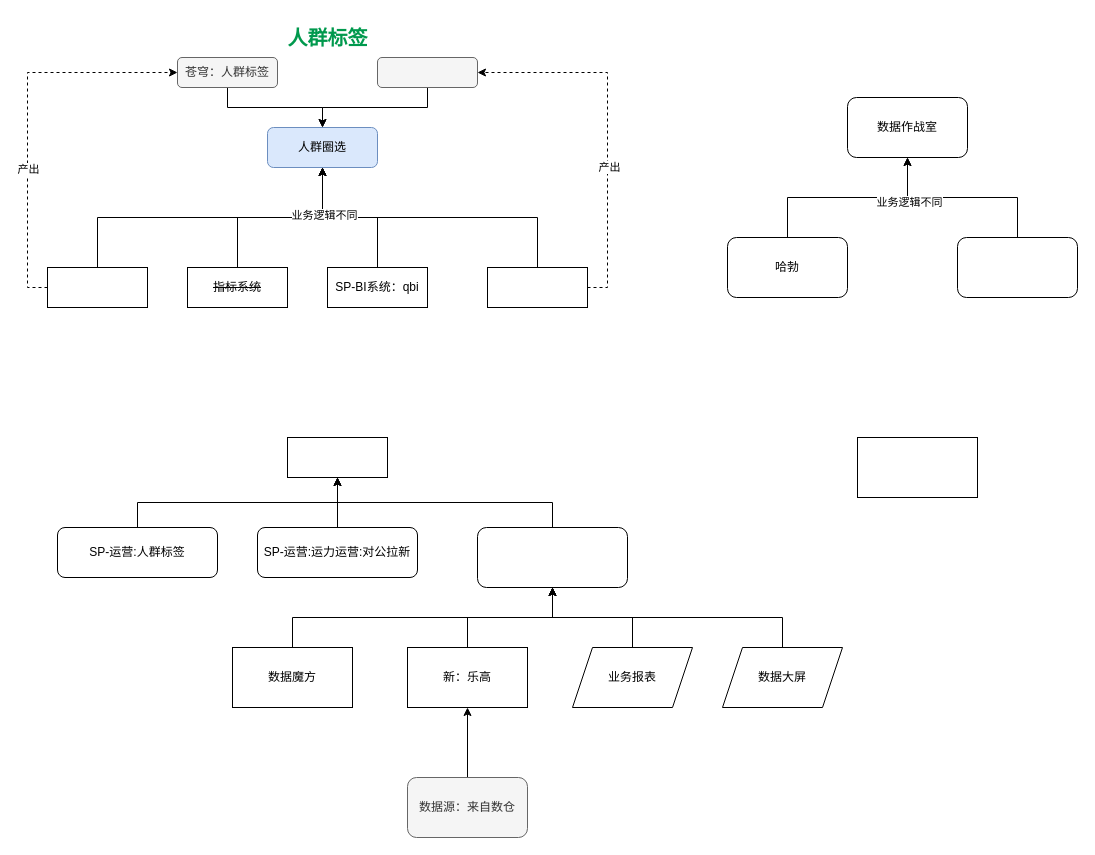
Some shapes in this 1095 by 855 pixel diagram are drawn without their labels. The centre of each missing label's shape, as x and y in pixels:
"SP-BI系统" belongs at [337,457].
"SP-数据" belongs at [552,557].
"SP-数据-观象台、数据作战室、数据作战室（升级）" belongs at [1017,267].
"哈勃系统-内部" belongs at [537,287].
"哈勃：人群标签" belongs at [427,72].
"苍穹系统-高德" belongs at [97,287].
